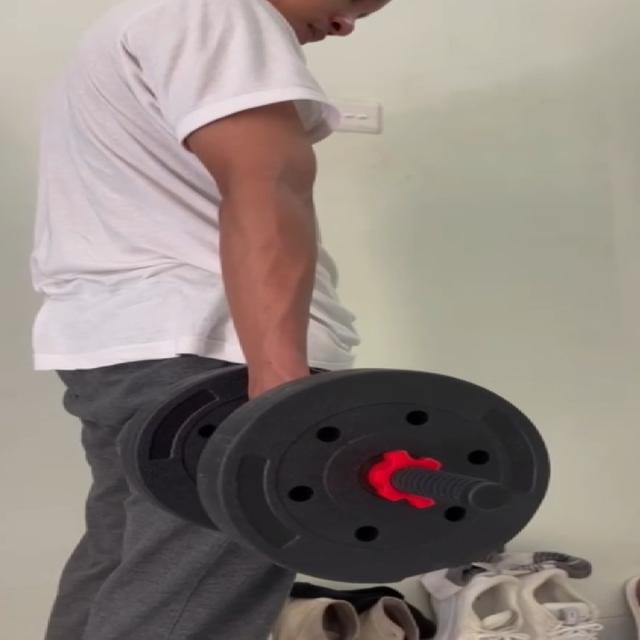dumbbell: (127, 363, 548, 584)
